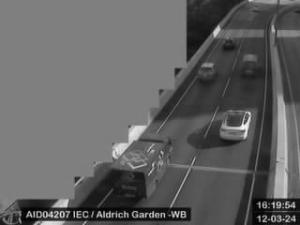truck: (106, 133, 174, 203)
vehicle: (219, 110, 252, 142), (198, 62, 219, 82), (240, 53, 258, 76), (224, 38, 234, 50), (251, 5, 258, 10)
